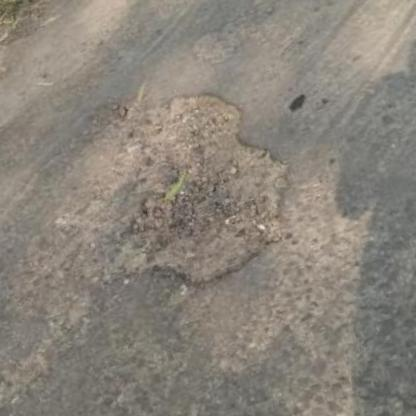pothole: (67, 61, 320, 315), (186, 18, 253, 72)
